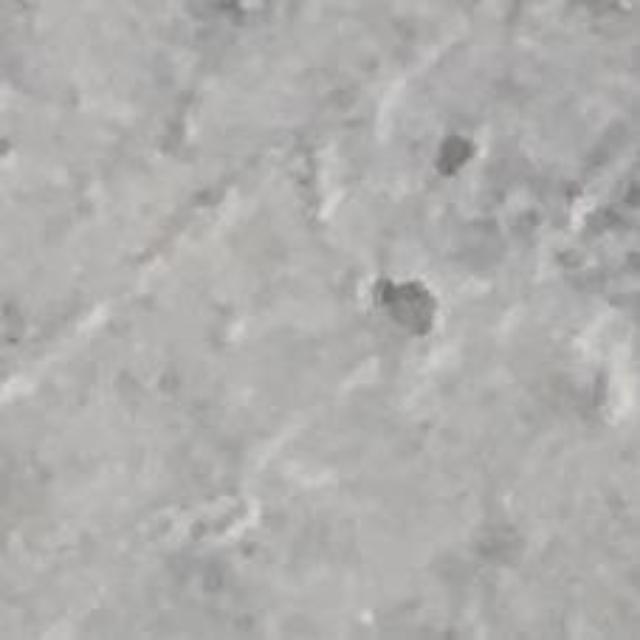peeling plaster: (370, 277, 437, 335)
